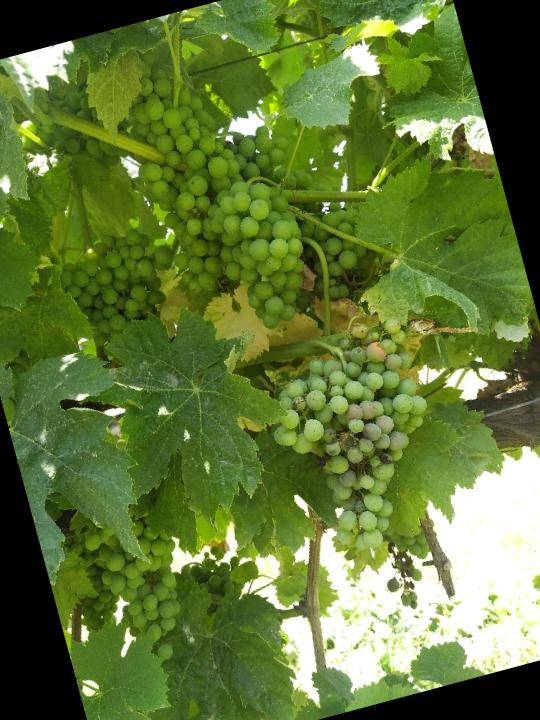grape: (112, 39, 331, 353), (251, 317, 459, 568), (59, 504, 207, 680), (51, 225, 189, 369)
